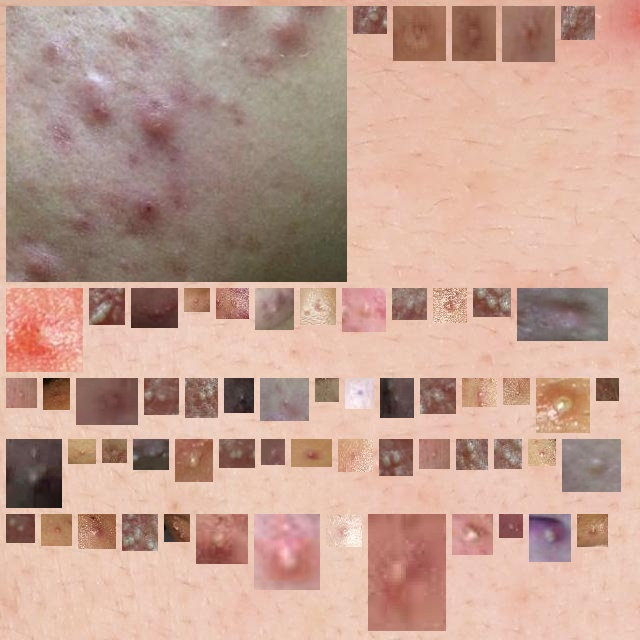pustule: (14, 14, 339, 274), (370, 522, 438, 623), (14, 296, 75, 364), (262, 522, 312, 582), (525, 296, 600, 333), (14, 447, 54, 501), (570, 447, 613, 484), (544, 386, 582, 425), (510, 14, 547, 54), (401, 14, 438, 53), (84, 386, 130, 417), (204, 522, 240, 556), (460, 14, 488, 53), (268, 386, 301, 413), (537, 522, 563, 554), (350, 296, 378, 324), (139, 296, 170, 320), (460, 522, 485, 547), (263, 296, 286, 322), (183, 447, 205, 474), (388, 386, 406, 410), (97, 296, 117, 317), (308, 296, 328, 317), (130, 522, 150, 543), (86, 522, 108, 541), (193, 386, 210, 410), (428, 386, 448, 406), (152, 386, 171, 407), (387, 447, 405, 468), (441, 296, 459, 315), (334, 522, 354, 539), (569, 14, 587, 32), (346, 447, 365, 464), (400, 296, 419, 312), (141, 447, 161, 462), (299, 447, 324, 459), (481, 296, 503, 309), (232, 386, 247, 405), (227, 447, 247, 460), (224, 296, 241, 311), (585, 522, 600, 539), (470, 386, 489, 399), (464, 447, 480, 462), (49, 522, 64, 538), (361, 14, 379, 26), (14, 386, 29, 400), (427, 447, 442, 461), (353, 386, 366, 401), (51, 386, 62, 402), (14, 522, 27, 535), (502, 447, 514, 461), (536, 447, 548, 458), (511, 386, 522, 397), (172, 522, 182, 534), (76, 447, 88, 456), (192, 296, 202, 304), (269, 447, 277, 457), (110, 447, 119, 455), (323, 386, 331, 394), (507, 522, 515, 530), (604, 386, 611, 393)
